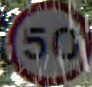Speed limit: (5, 1, 90, 85)
